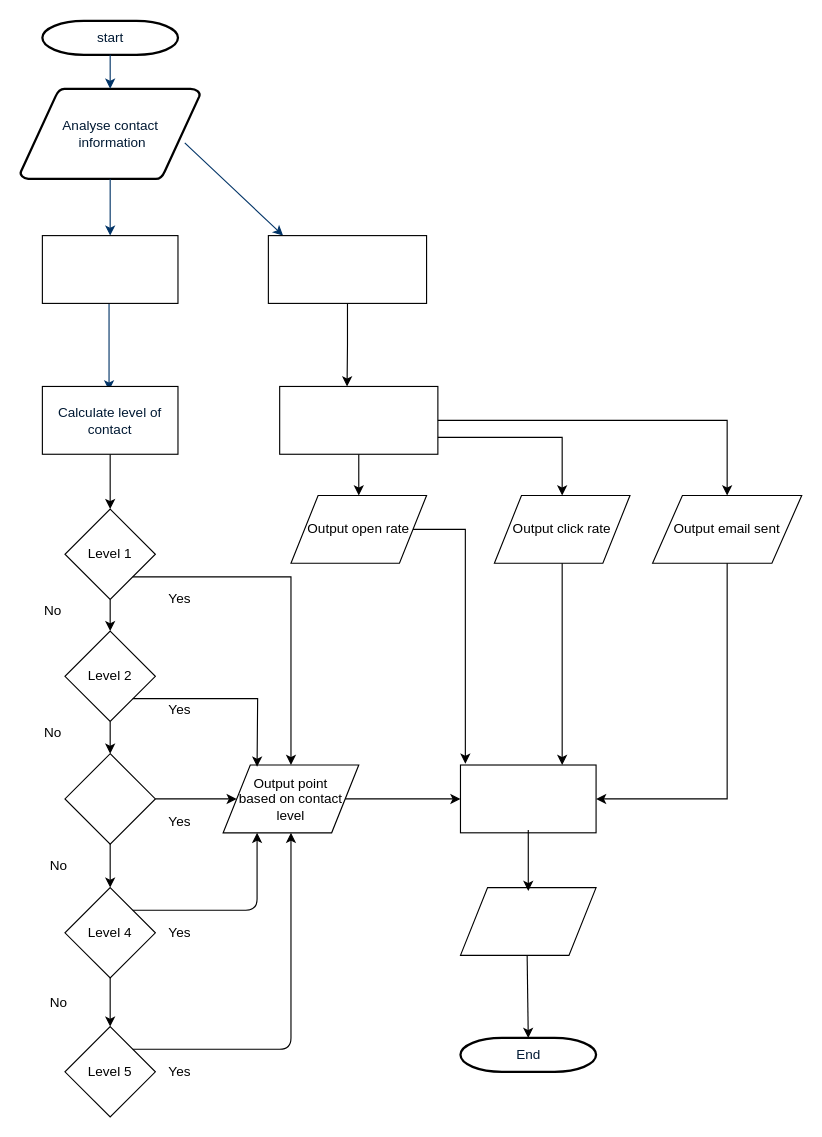
This 822x1137 diagram has some shape labels left out. Each missing label, with the centre of its shape:
Add total point for contact: the point at 527,798
Calculate campaign statistics: the point at 358,419
Get the contact action for all campaign in one day: the point at 347,268
Get the current level of contact: the point at 109,268
Level 3: the point at 109,798
Output total point: the point at 527,920
